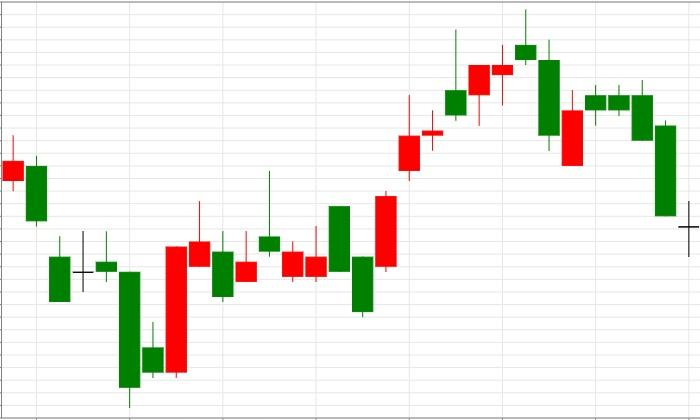bullish_engulfing_rise: (26, 155, 187, 408)
shooting_star_fall: (375, 29, 466, 272)
